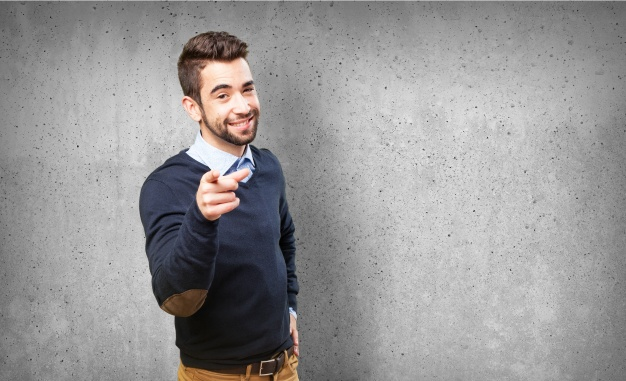happy: (199, 71, 268, 149)
